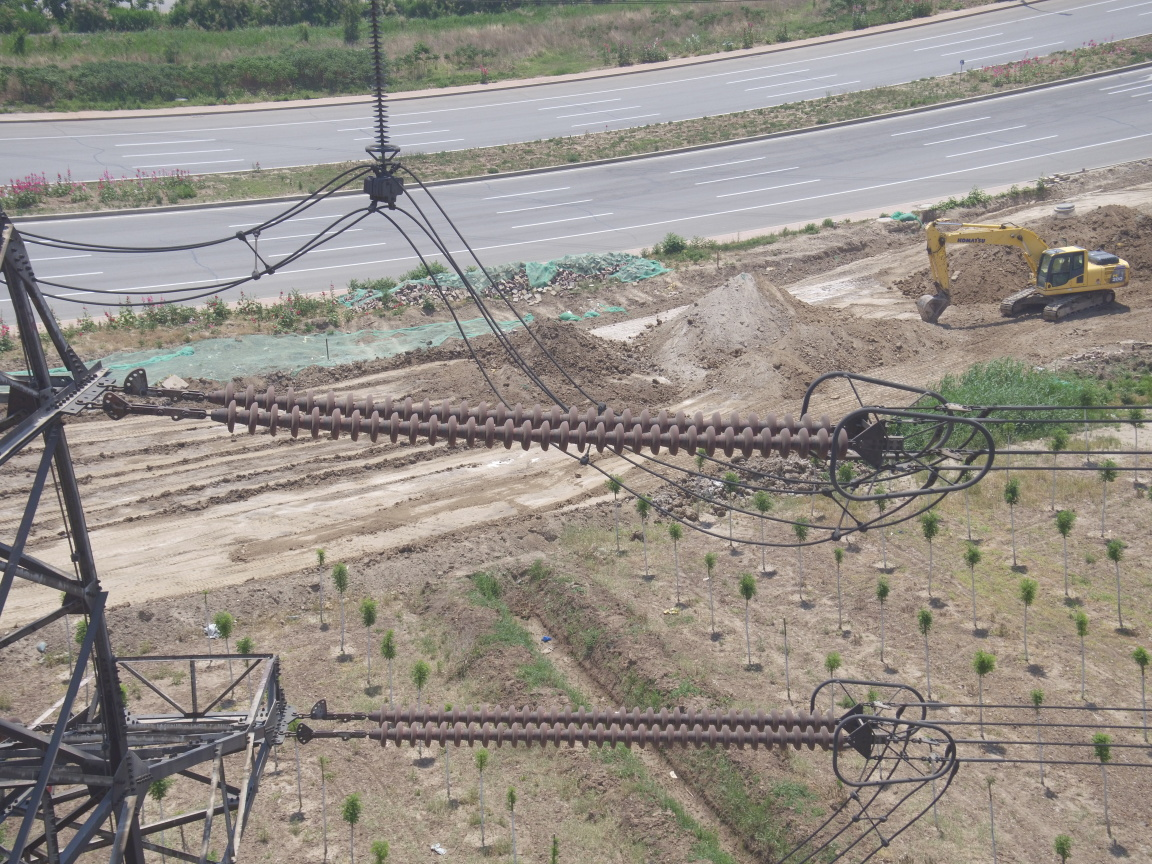insulator: (179, 381, 865, 468), (343, 703, 860, 760)
